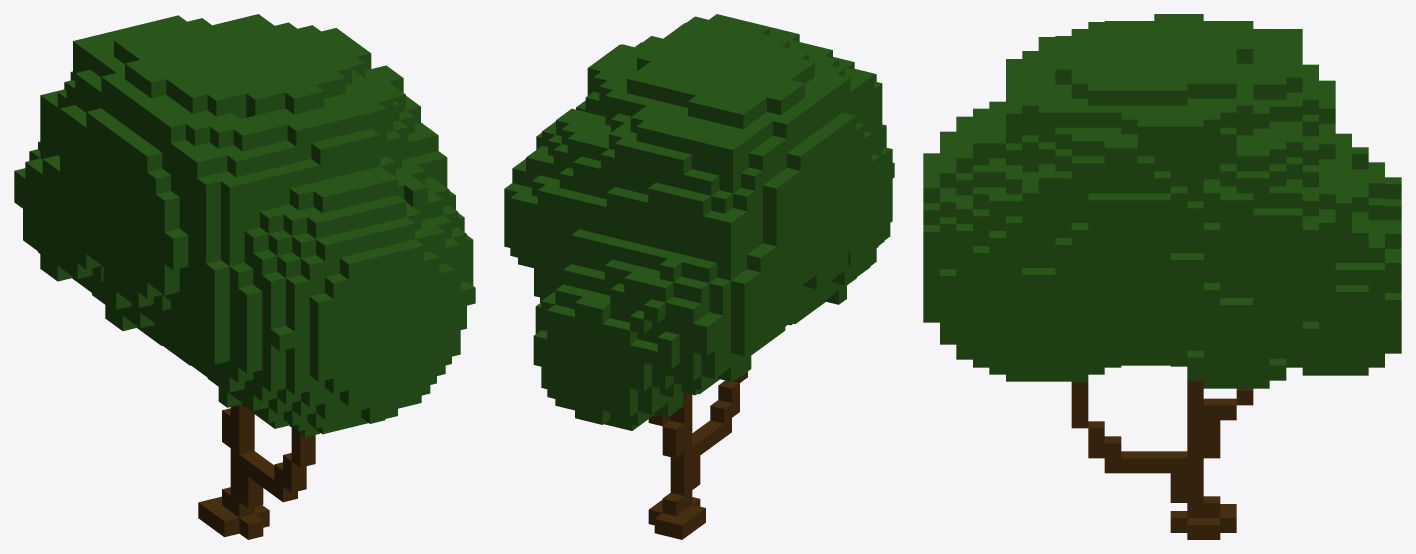
Rendered from bush5bb.obj.
The picture shows the model from 3 angles, left to right: view 1: azimuth 30°, elevation 25°; view 2: azimuth 150°, elevation 25°; view 3: azimuth 270°, elevation 25°; orthographic projection. The views are drawn at different scales.
Size of the model in its own units: 1.8 by 3.1 by 2.9.
Materials: 1 (1 with a texture image).
